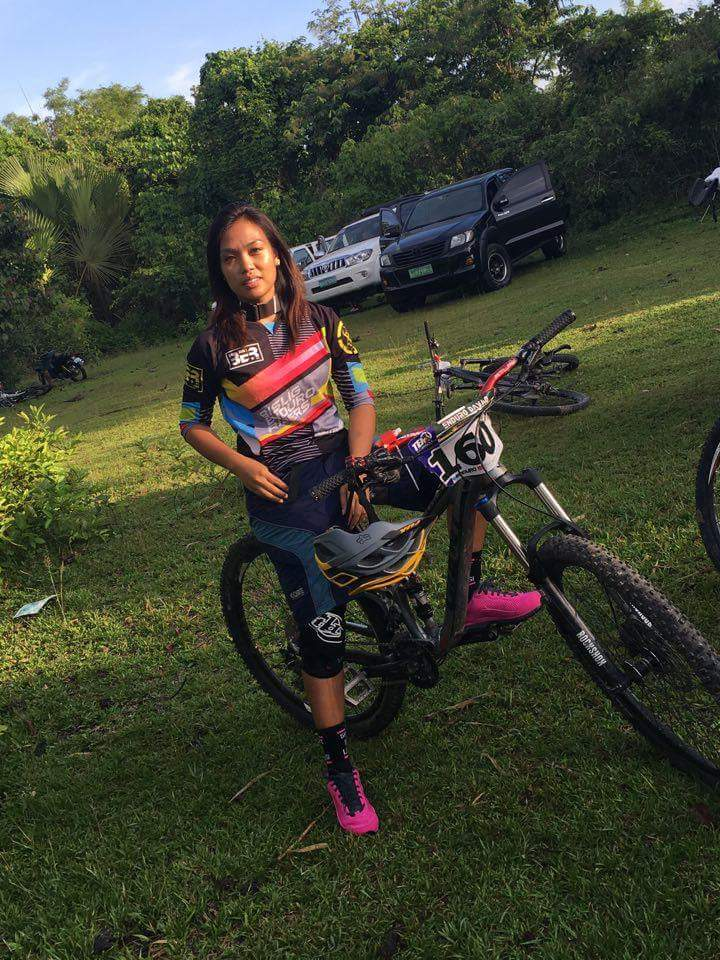bike: (220, 315, 720, 813), (417, 315, 592, 424), (27, 338, 100, 385)
car: (383, 171, 568, 298), (311, 215, 383, 302)
person: (177, 202, 499, 827)
tree: (202, 57, 324, 200)
